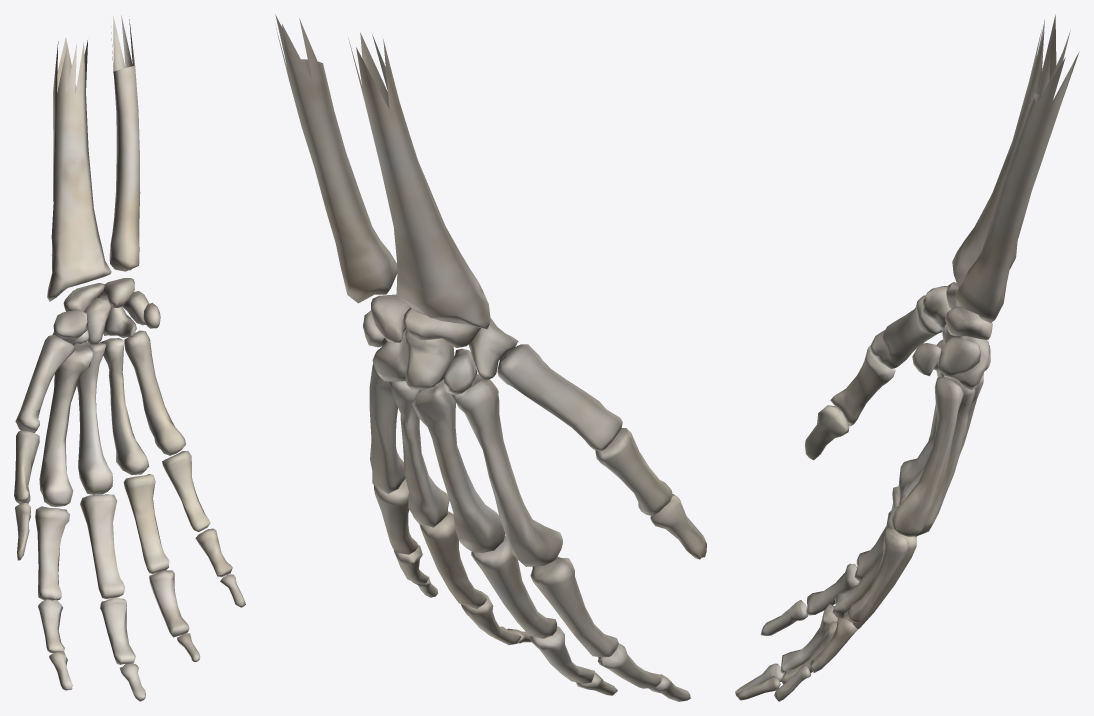
Rendered from hand.glb.
3 renders of one model, left to right at view 1: azimuth 30°, elevation 25°; view 2: azimuth 150°, elevation 25°; view 3: azimuth 270°, elevation 25°, orthographic. The views are drawn at different scales.
Visible parts, largest first — view 1: Right_radius, Right_ulna, Right_2nd_metacarpal_bone, Right_3rd_metacarpal_bone, Right_5th_metacarpal_bone, Right_proximal_phalanx_of_3rd_digit, Right_4th_metacarpal_bone, Right_proximal_phalanx_of_4th_digit, Right_proximal_phalanx_of_2nd_digit, Right_1st_metacarpal_bone, Right_proximal_phalanx_of_5th_digit, Right_middle_phalanx_of_3rd_digit (+14 smaller); view 2: Right_radius, Right_ulna, Right_2nd_metacarpal_bone, Right_3rd_metacarpal_bone, Right_1st_metacarpal_bone, Right_4th_metacarpal_bone, Right_proximal_phalanx_of_2nd_digit, Right_proximal_phalanx_of_3rd_digit, Right_5th_metacarpal_bone, Right_proximal_phalanx_of_1st_digit_thumb, Right_proximal_phalanx_of_4th_digit, Right_capitate (+11 smaller); view 3: Right_ulna, Right_5th_metacarpal_bone, Right_radius, Right_1st_metacarpal_bone, Right_proximal_phalanx_of_1st_digit_thumb, Right_proximal_phalanx_of_5th_digit, Right_4th_metacarpal_bone, Right_distal_phalanx_of_1st_digit_thumb, Right_triquetral, Right_lunate, Right_proximal_phalanx_of_3rd_digit, Right_middle_phalanx_of_2nd_digit (+11 smaller).
Part boxes in pixels (x1=…): Right_radius: x1=47, y1=37, x2=111, y2=301; Right_ulna: x1=109, y1=15, x2=140, y2=271; Right_2nd_metacarpal_bone: x1=39, y1=344, x2=93, y2=506; Right_3rd_metacarpal_bone: x1=73, y1=341, x2=113, y2=494; Right_5th_metacarpal_bone: x1=124, y1=330, x2=185, y2=455; Right_proximal_phalanx_of_3rd_digit: x1=80, y1=494, x2=125, y2=598; Right_4th_metacarpal_bone: x1=99, y1=338, x2=149, y2=474; Right_proximal_phalanx_of_4th_digit: x1=123, y1=474, x2=169, y2=573; Right_proximal_phalanx_of_2nd_digit: x1=35, y1=506, x2=69, y2=600; Right_1st_metacarpal_bone: x1=15, y1=335, x2=75, y2=432; Right_proximal_phalanx_of_5th_digit: x1=162, y1=451, x2=210, y2=531; Right_middle_phalanx_of_3rd_digit: x1=100, y1=598, x2=135, y2=664; Right_radius: x1=348, y1=32, x2=490, y2=329; Right_ulna: x1=275, y1=14, x2=397, y2=303; Right_2nd_metacarpal_bone: x1=451, y1=373, x2=562, y2=566; Right_3rd_metacarpal_bone: x1=412, y1=379, x2=505, y2=552; Right_1st_metacarpal_bone: x1=497, y1=344, x2=622, y2=451; Right_4th_metacarpal_bone: x1=389, y1=381, x2=449, y2=527; Right_proximal_phalanx_of_2nd_digit: x1=530, y1=556, x2=618, y2=656; Right_proximal_phalanx_of_3rd_digit: x1=471, y1=535, x2=557, y2=638; Right_5th_metacarpal_bone: x1=369, y1=364, x2=405, y2=493; Right_proximal_phalanx_of_1st_digit_thumb: x1=595, y1=428, x2=672, y2=516; Right_proximal_phalanx_of_4th_digit: x1=419, y1=511, x2=486, y2=608; Right_capitate: x1=404, y1=329, x2=454, y2=390; Right_ulna: x1=955, y1=44, x2=1079, y2=322; Right_5th_metacarpal_bone: x1=892, y1=377, x2=963, y2=536; Right_radius: x1=952, y1=14, x2=1070, y2=287; Right_1st_metacarpal_bone: x1=870, y1=295, x2=942, y2=369; Right_proximal_phalanx_of_1st_digit_thumb: x1=830, y1=345, x2=895, y2=426; Right_proximal_phalanx_of_5th_digit: x1=847, y1=528, x2=908, y2=622; Right_4th_metacarpal_bone: x1=914, y1=376, x2=975, y2=536; Right_distal_phalanx_of_1st_digit_thumb: x1=805, y1=405, x2=849, y2=460; Right_triquetral: x1=938, y1=337, x2=980, y2=375; Right_lunate: x1=945, y1=306, x2=992, y2=339; Right_proximal_phalanx_of_3rd_digit: x1=832, y1=506, x2=916, y2=618; Right_middle_phalanx_of_2nd_digit: x1=807, y1=563, x2=859, y2=615.
Bounding box in the file's own units: 0.1049 × 0.2621 × 0.1142.
Materials: 29 (29 with a texture image).
